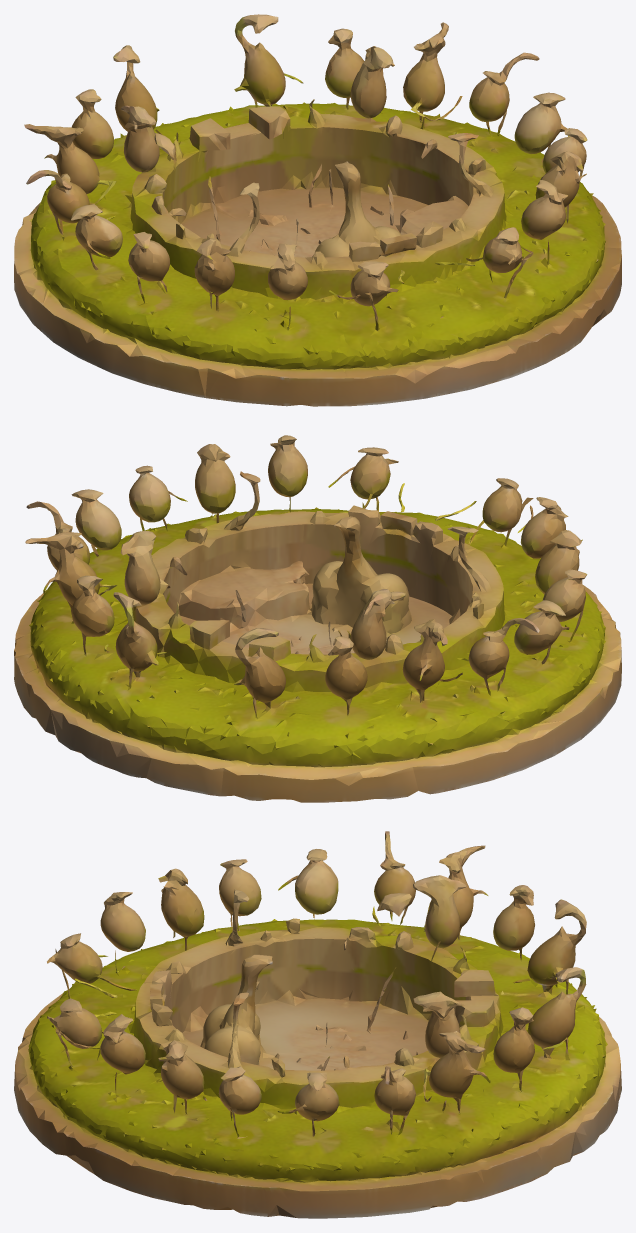
The picture shows the model from 3 angles, top to bottom: view 1: azimuth 30°, elevation 25°; view 2: azimuth 150°, elevation 25°; view 3: azimuth 270°, elevation 25°; orthographic projection.
Visible parts, largest first — view 1: RatSwarm; view 2: RatSwarm; view 3: RatSwarm.
Part boxes in pixels (left/top/right/bottom): RatSwarm: left=14, top=14, right=621, bottom=406; RatSwarm: left=14, top=435, right=621, bottom=802; RatSwarm: left=14, top=831, right=621, bottom=1218.
Size of the model in its own units: 1.9 by 0.5395 by 1.9.
Materials: 1 (1 with a texture image).
